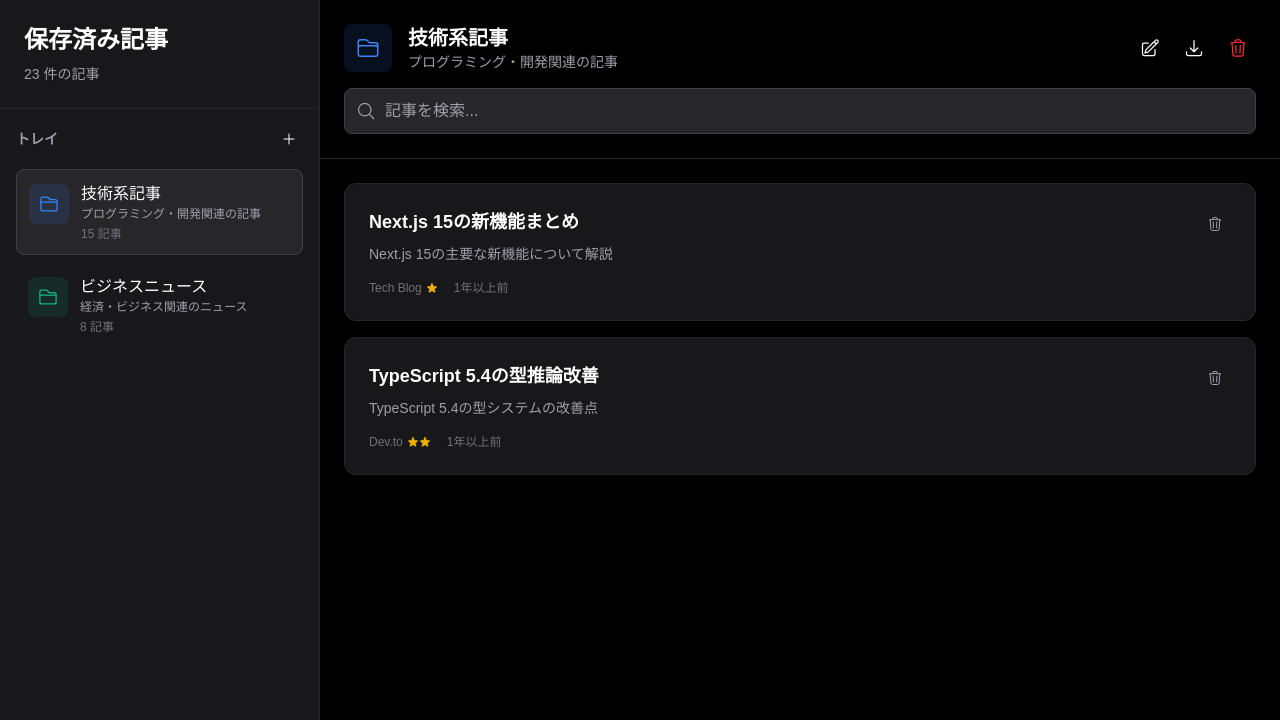
SavedArticlesPage › should remove article from tray
Expected: the heading "保存済み記事" is shown, [24,26,168,53]
Click the button named "削除" in the row of "Next.js 15の新機能まとめ": click(1215, 224) [1199,208,1231,240]
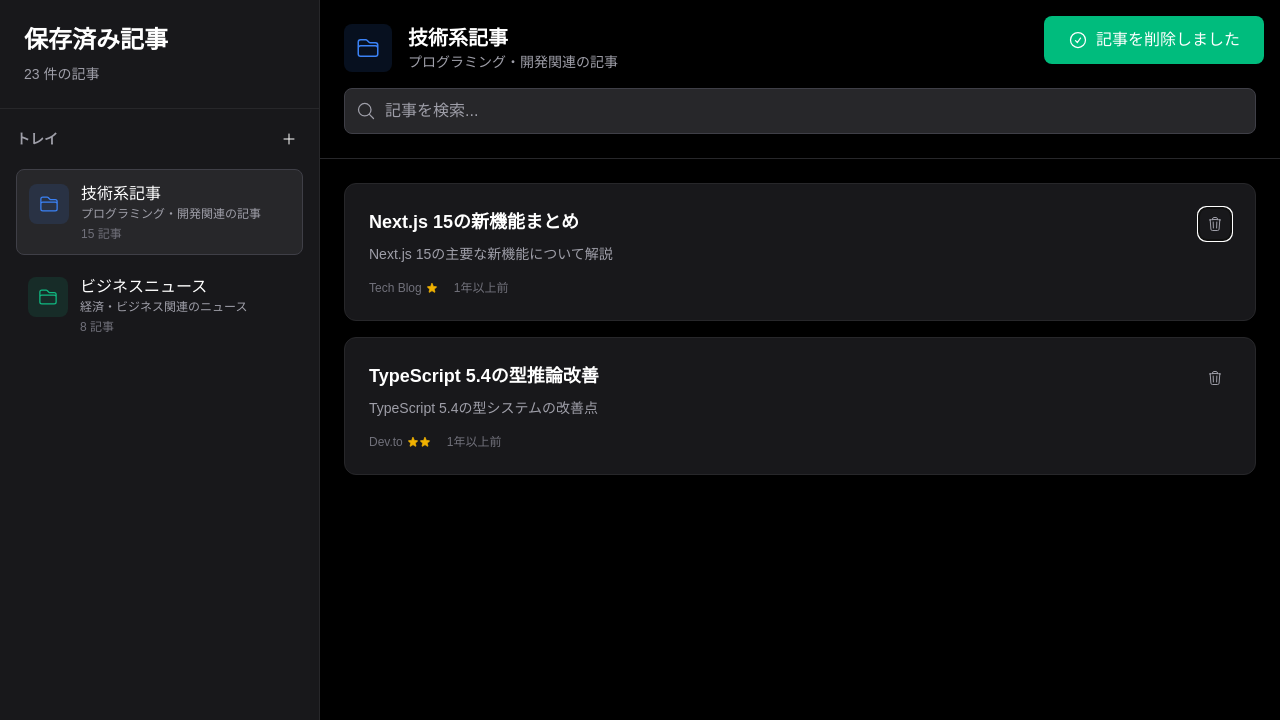
Expected: the text "記事を削除しました" is shown, [1096,28,1240,52]
